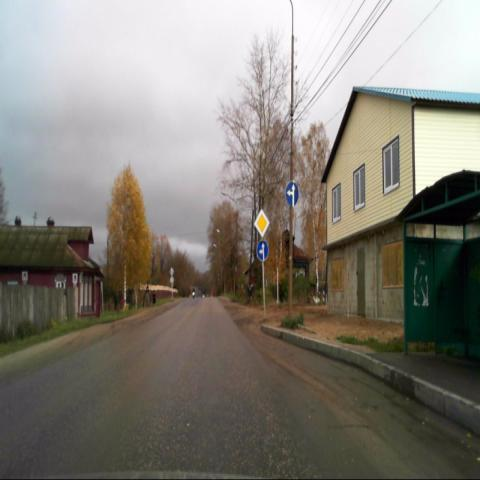4_1_5: (256, 239, 269, 261)
